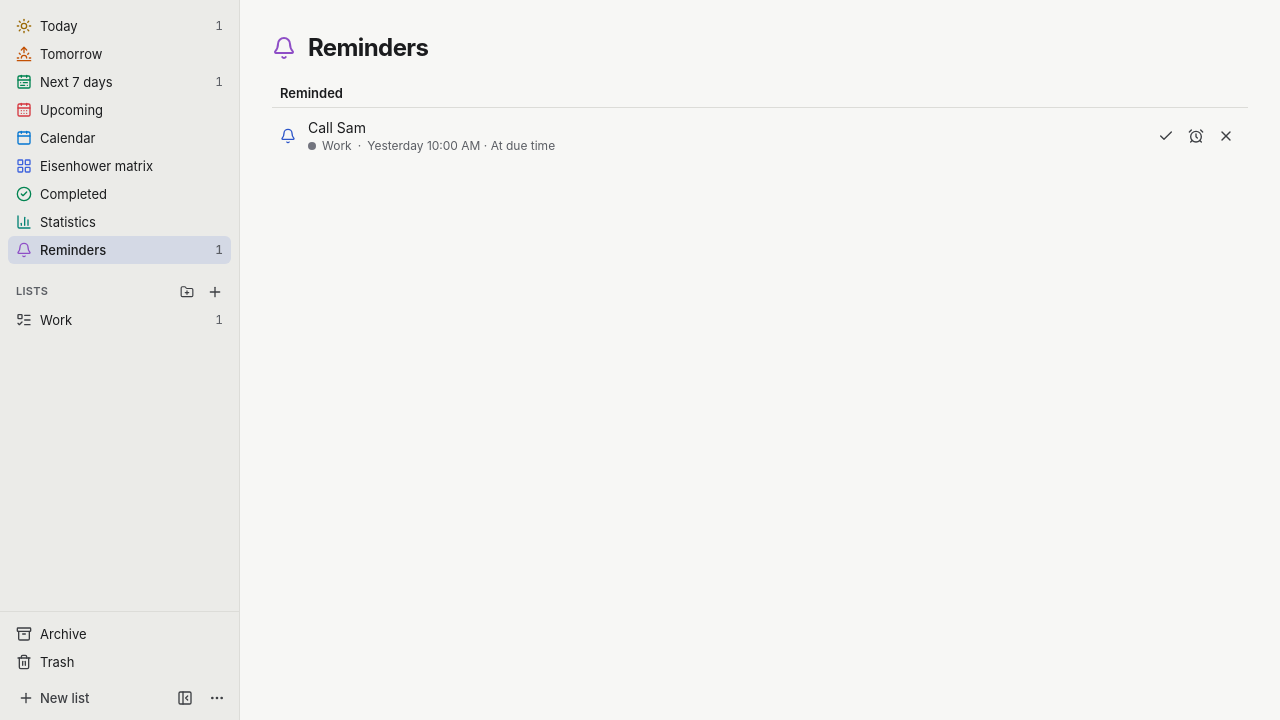
Test case: Reminders view › snoozes a reminder into Coming up
The width and height of the screenshot is (1280, 720).
Click the button named "Snooze": (1196, 136) x1=1182 y1=122 x2=1210 y2=150
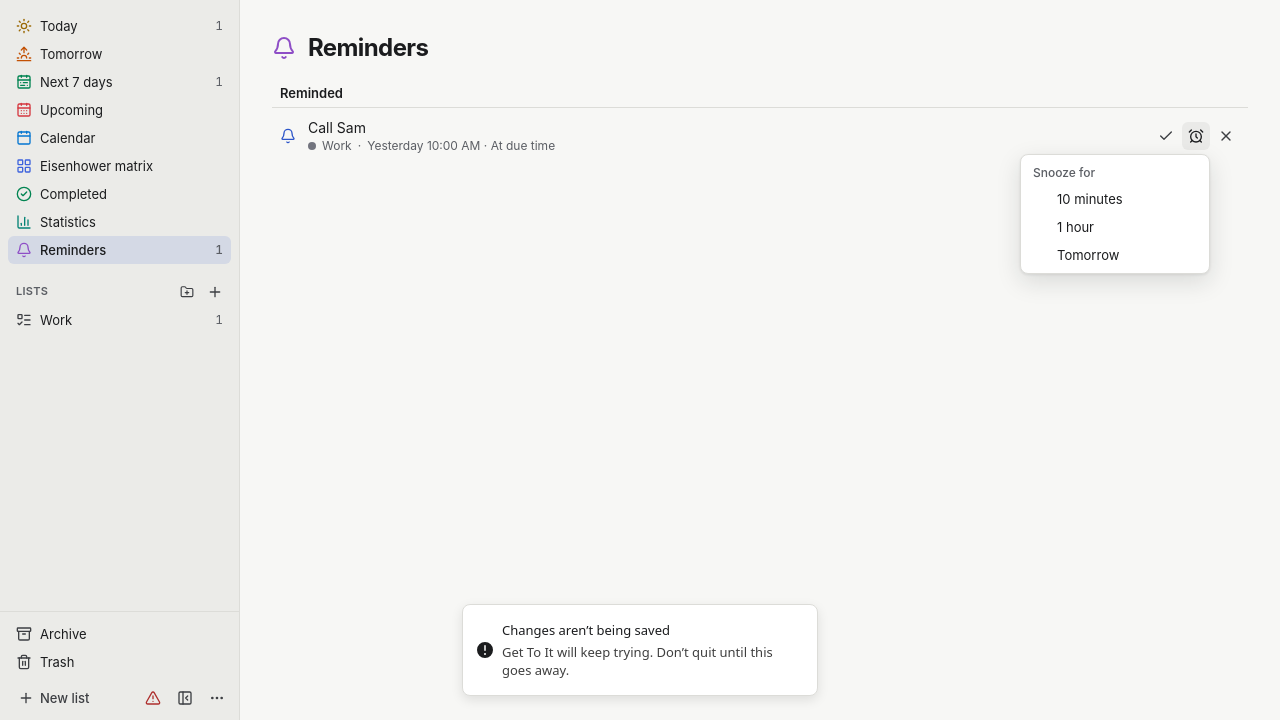
Click the menu item "1 hour": (1076, 227) x1=1057 y1=219 x2=1094 y2=235
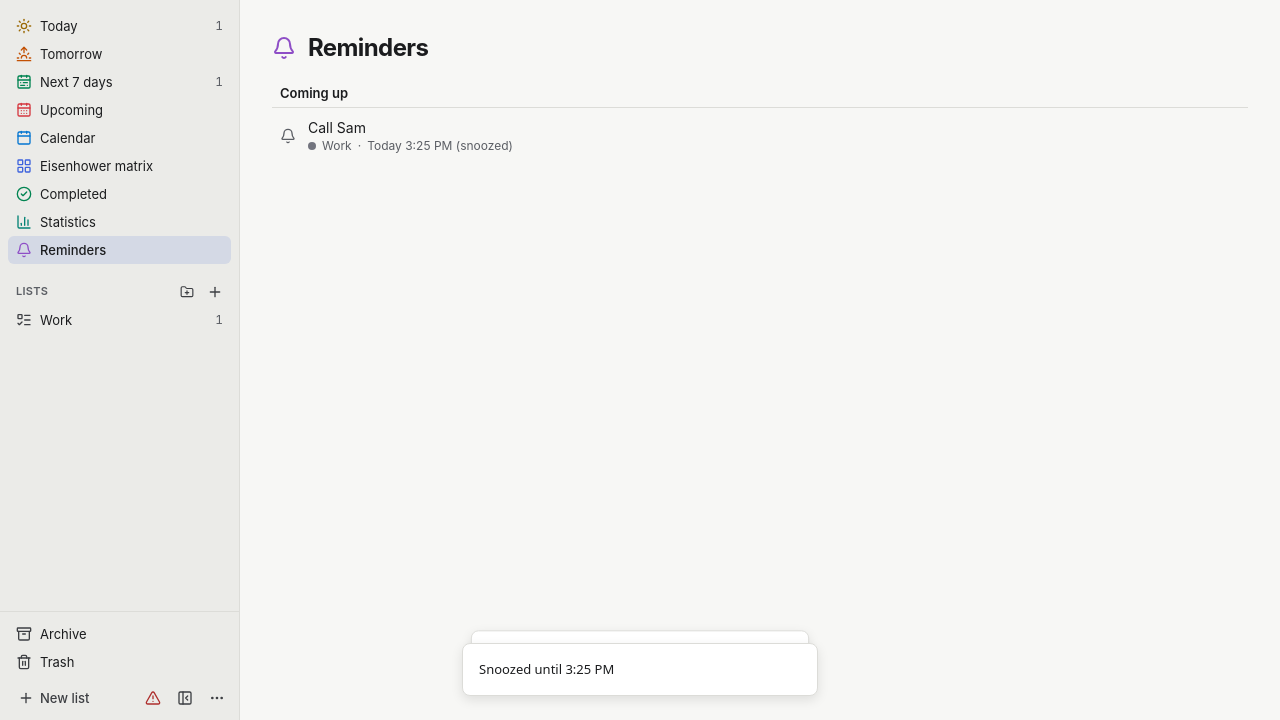
Now the text "Reminded" is gone
Now the text "Today 3:25 PM (snoozed)" is shown, box x1=367 y1=138 x2=513 y2=154
